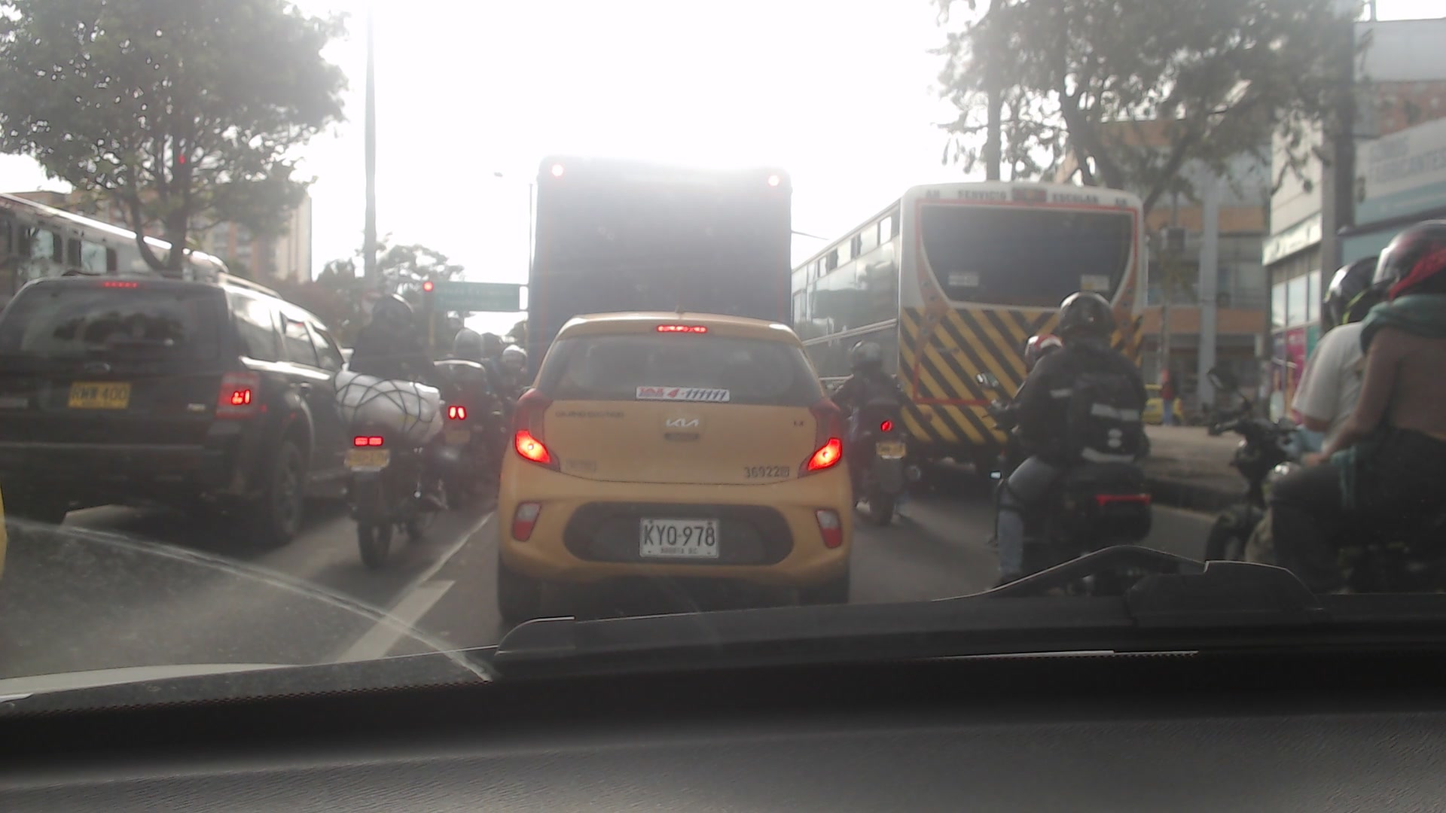bus: (787, 182, 1154, 472)
car: (496, 318, 856, 611), (0, 276, 365, 542)
motorcycle: (952, 432, 1171, 601), (331, 413, 443, 557), (841, 407, 914, 527), (427, 401, 491, 503)
person: (999, 292, 1169, 476), (1368, 225, 1446, 514), (1309, 250, 1377, 470), (347, 294, 435, 432), (837, 336, 909, 439), (439, 325, 493, 411)
truck: (524, 143, 806, 324)
